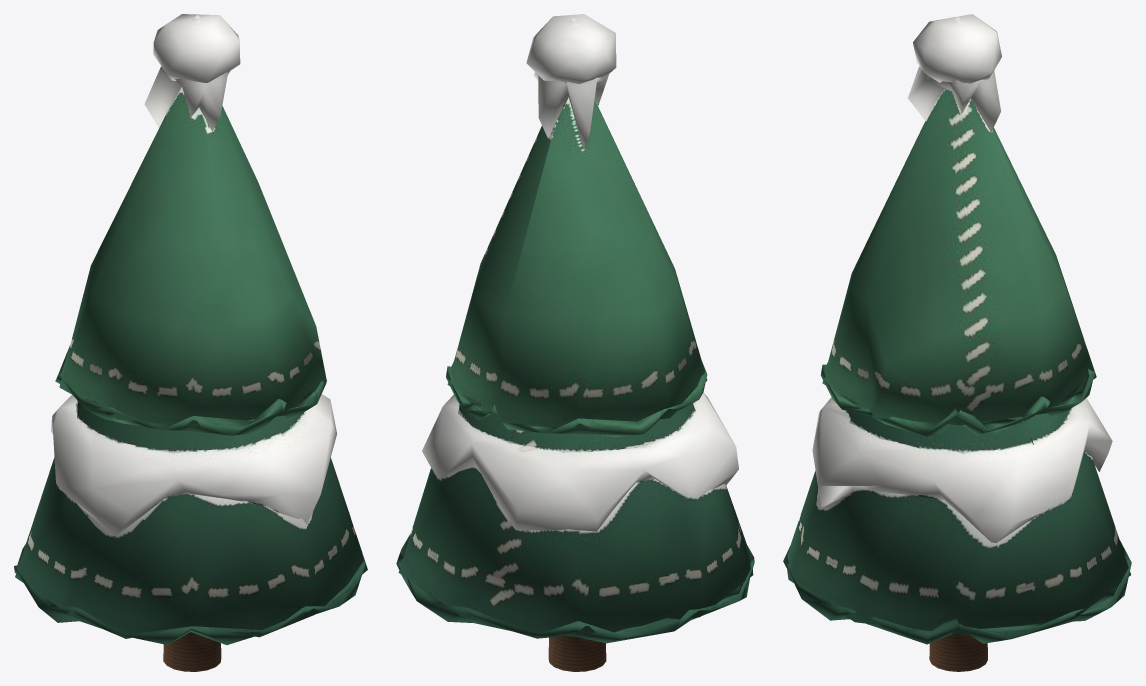
Rendered from tree_tall.glb.
3 views of the same model, side by side, from view 1: azimuth 30°, elevation 25°; view 2: azimuth 150°, elevation 25°; view 3: azimuth 270°, elevation 25° (orthographic).
Visible parts, largest first — view 1: prop_tree_tall_felt, prop_tree_tall_wood; view 2: prop_tree_tall_felt, prop_tree_tall_wood; view 3: prop_tree_tall_felt, prop_tree_tall_wood.
Boxes of the visible parts, bbox=[...] form: prop_tree_tall_felt: bbox=[14, 14, 367, 644]; prop_tree_tall_wood: bbox=[163, 632, 221, 671]; prop_tree_tall_felt: bbox=[396, 14, 754, 643]; prop_tree_tall_wood: bbox=[548, 636, 606, 671]; prop_tree_tall_felt: bbox=[783, 14, 1131, 644]; prop_tree_tall_wood: bbox=[929, 633, 987, 671].
Bounding box in the file's own units: 3.9 × 7.64 × 3.74.
2 materials, 2 textured.
